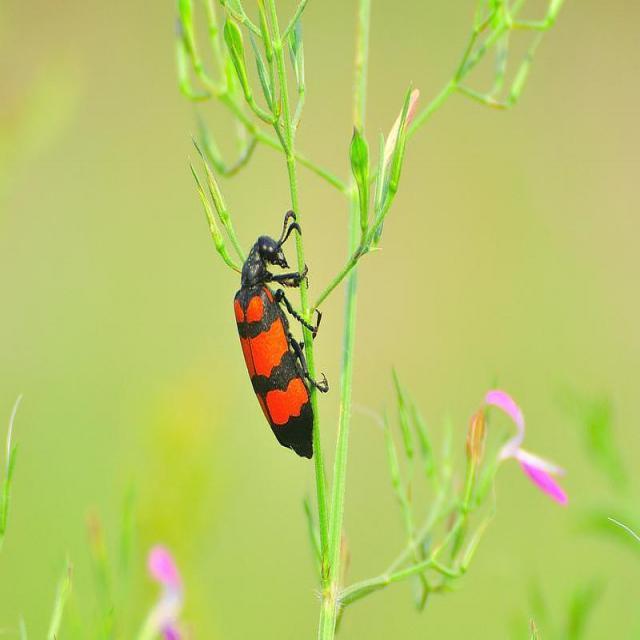BlisterBeetle-Adult-: (233, 203, 333, 464)
